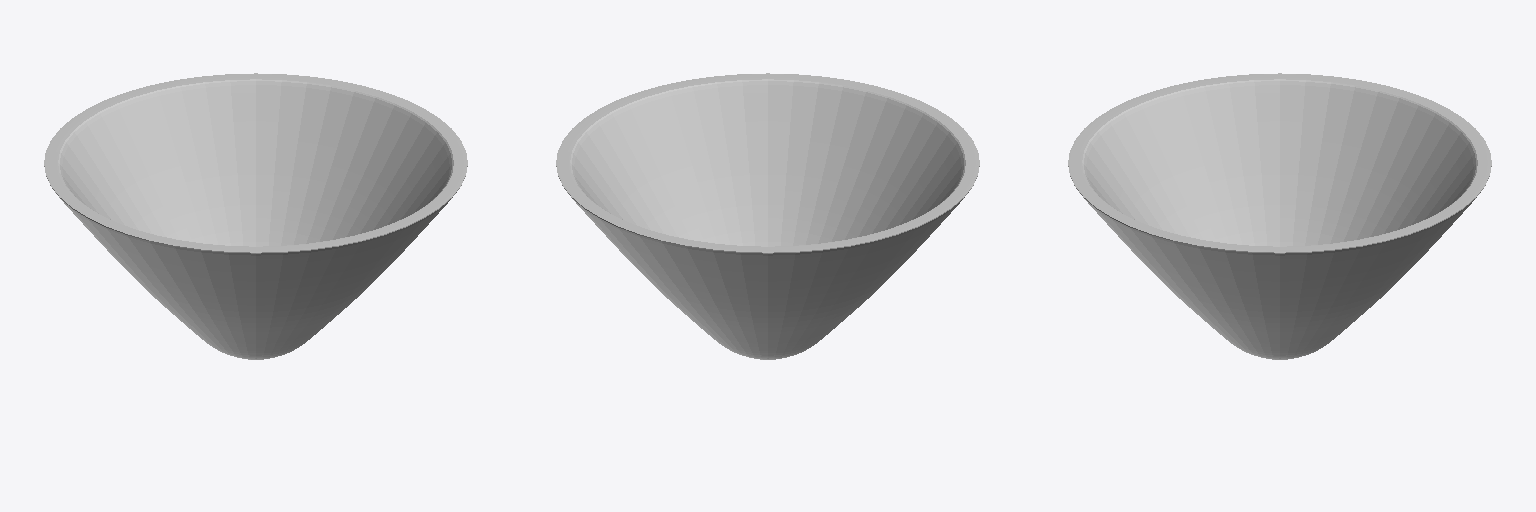
The model's file is Mini1.obj.
The picture shows the model from 3 angles: view 1: azimuth 30°, elevation 25°; view 2: azimuth 150°, elevation 25°; view 3: azimuth 270°, elevation 25°; orthographic projection.
Visible parts, largest first — view 1: pCylinder1; view 2: pCylinder1; view 3: pCylinder1.
Boxes of the visible parts, <box> form: pCylinder1: <box>44,73,467,359</box>; pCylinder1: <box>556,73,979,359</box>; pCylinder1: <box>1068,73,1491,359</box>.
Bounding box in the file's own units: 324 × 157 × 324.